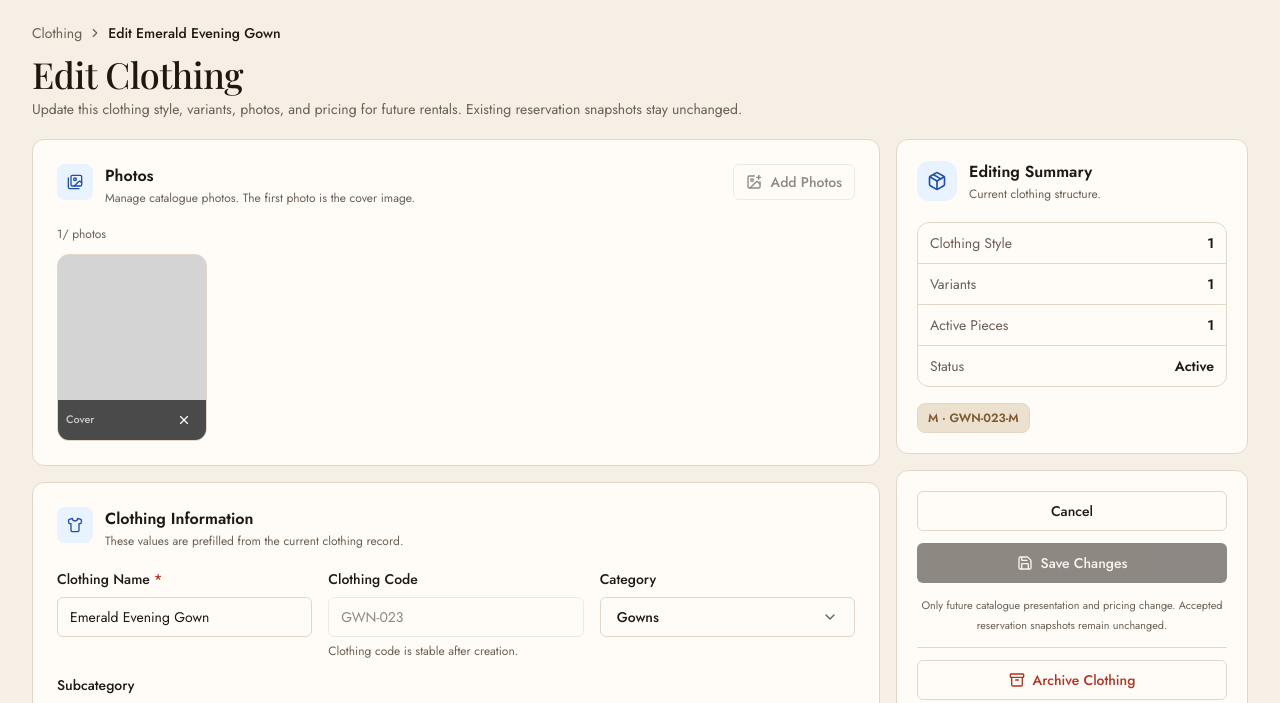
Test: EditClothingPage › saves changed product and variant fields with backend concurrency tokens and one intent family
expect the heading "Edit Clothing" is shown: met, box [32,50,243,98]
Replace the text in the field labelled "Clothing Name" with "Emerald Gala Gown" at {"x": 185, "y": 617}, box [57,597,312,637]
(page scrolled)
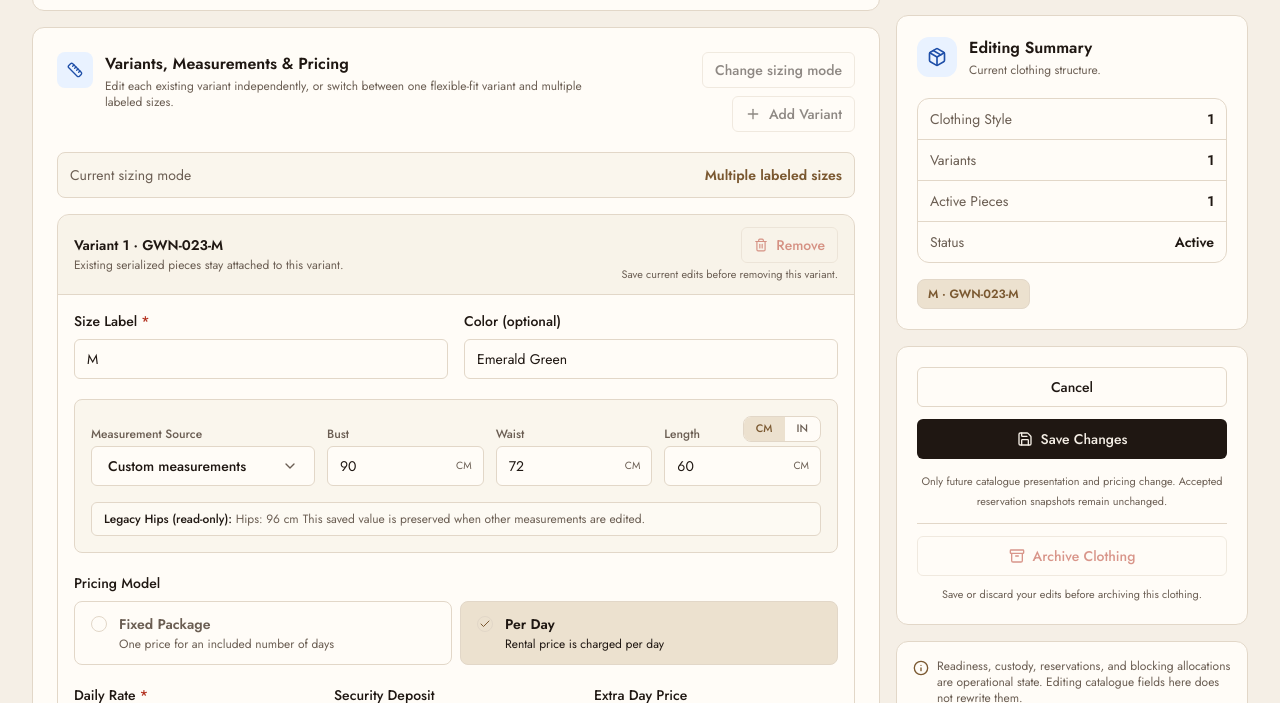
Replace the text in the field named "GWN-023-M Color" with "Forest Emerald" at {"x": 651, "y": 359}, box [464,339,838,379]
(page scrolled)
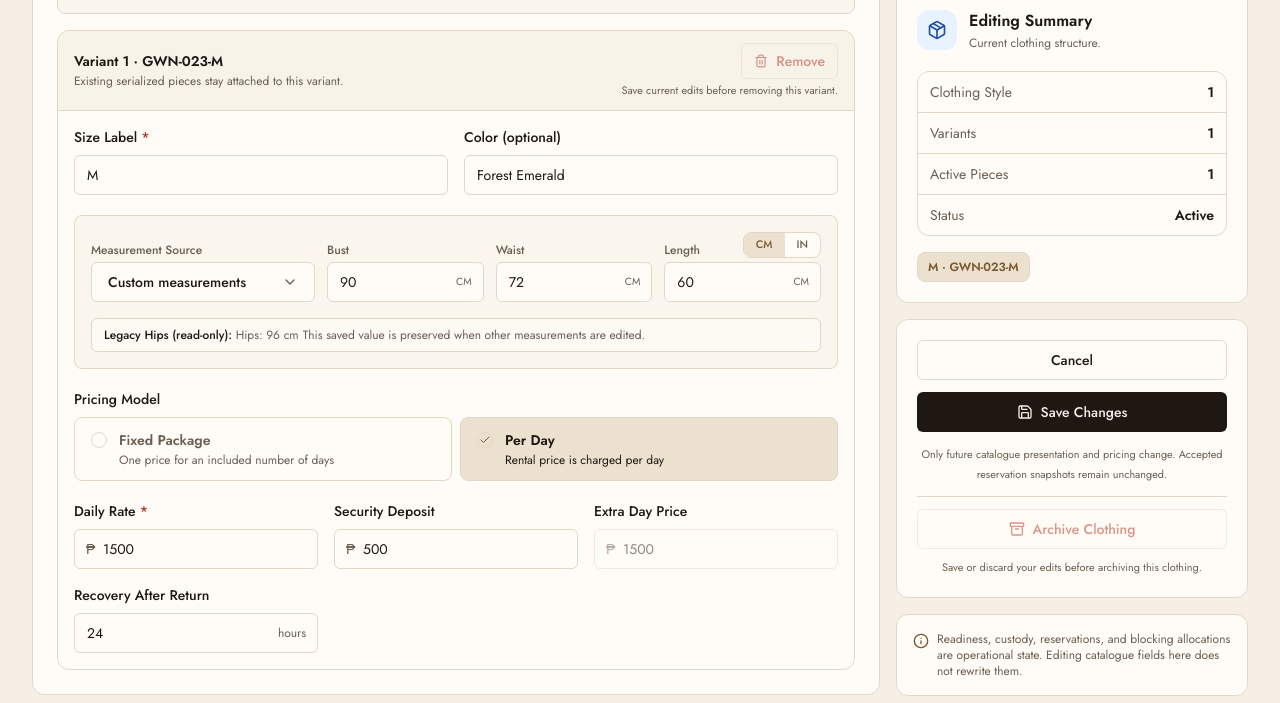
Replace the text in the field labelled "Daily Rate" with "1750" at {"x": 196, "y": 549}, box [74,529,318,569]
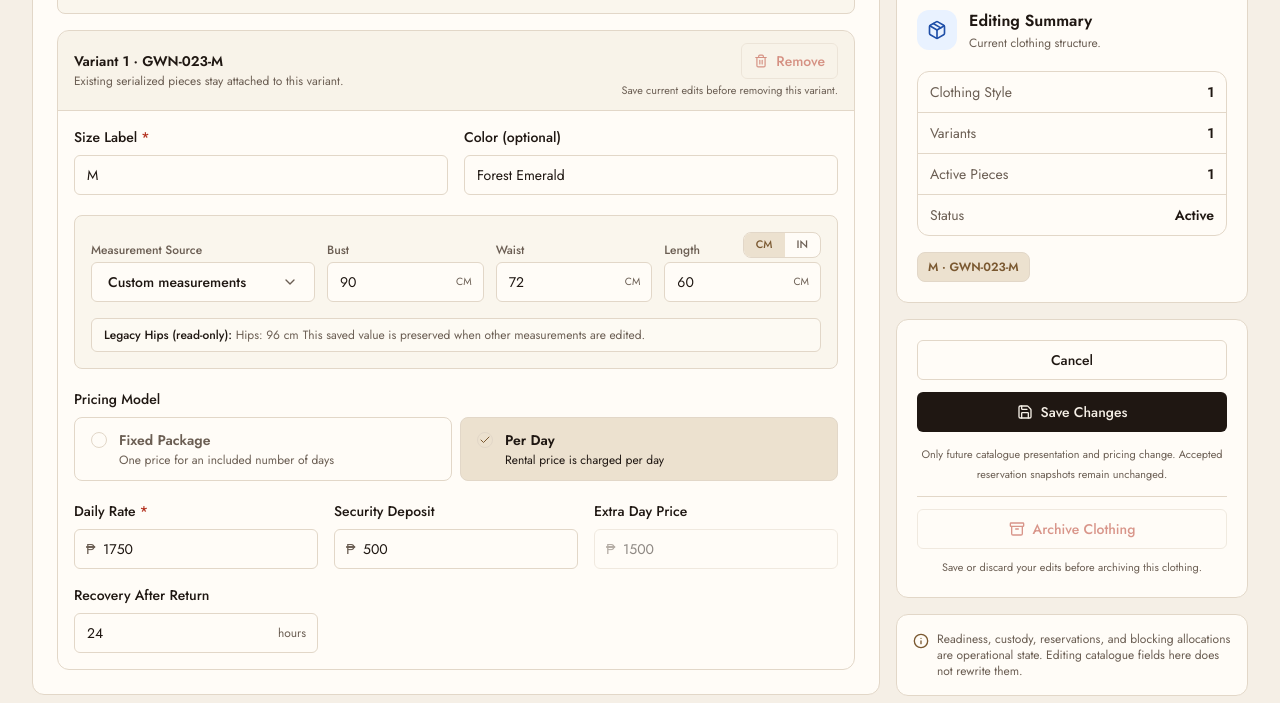
Click the button "Save Changes" at {"x": 1072, "y": 411}, box [917,391,1227,431]
(page scrolled)
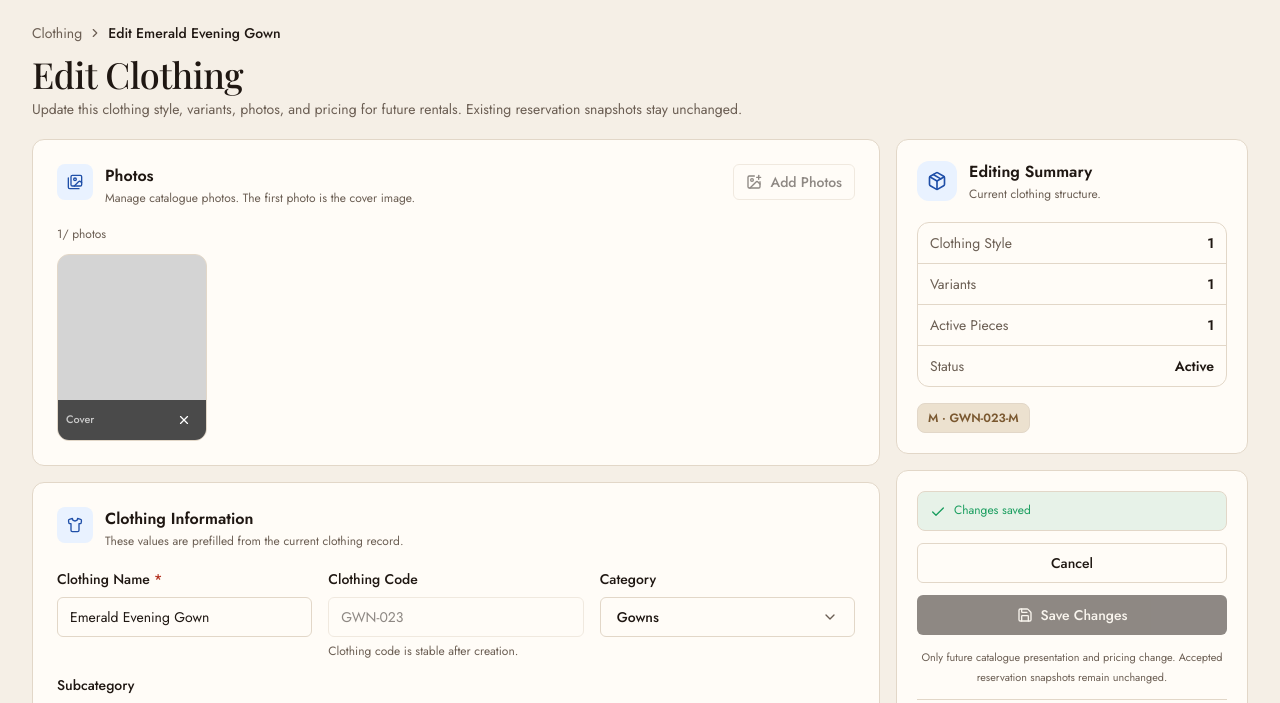
expect the heading "Edit Clothing" is shown: met, box [32,50,243,98]
expect the message reads "Changes saved": met, box [954,501,1031,519]
